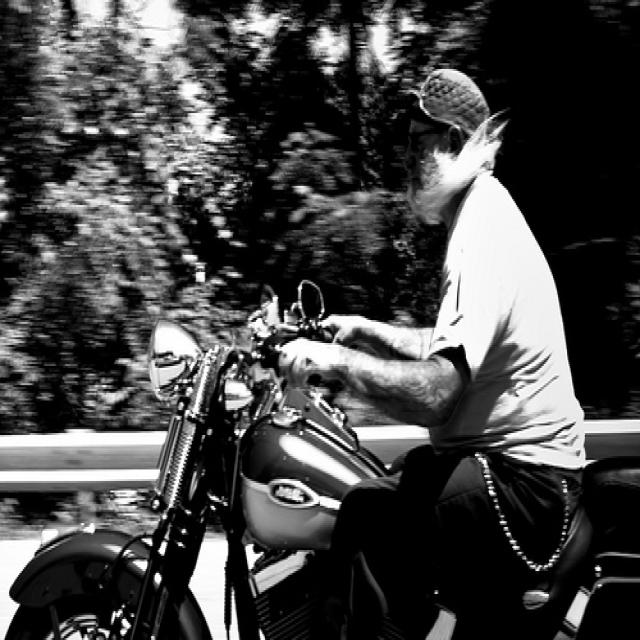motor: (8, 282, 640, 631)
